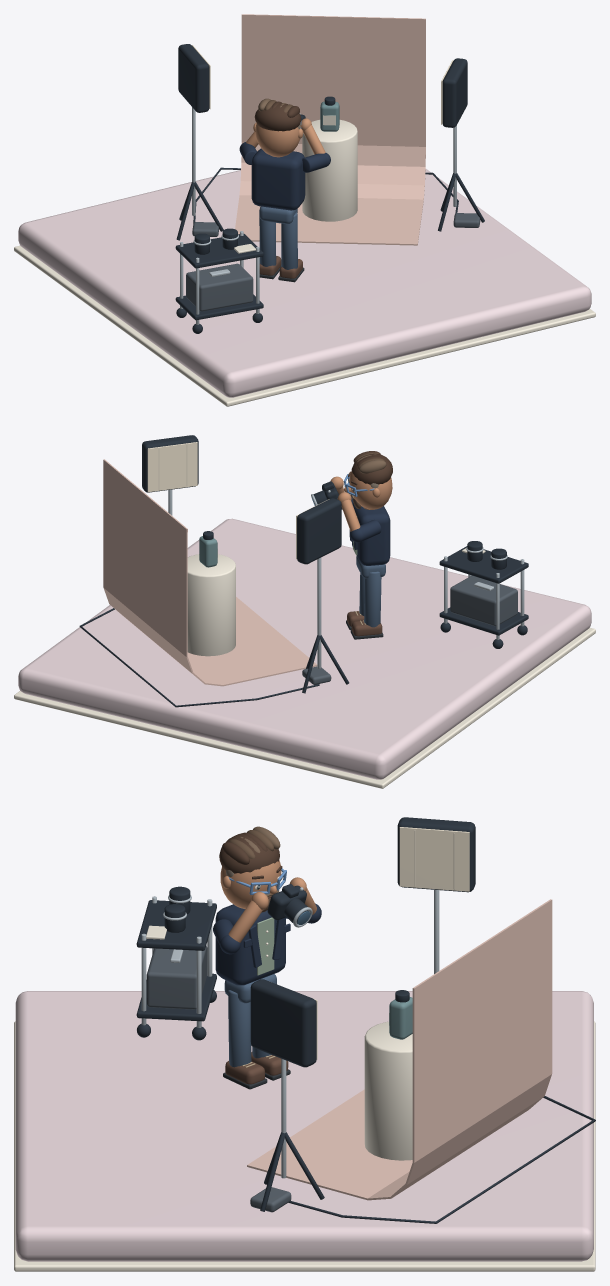
File: photography.glb
3 renders of one model, top to bottom at view 1: azimuth 30°, elevation 25°; view 2: azimuth 150°, elevation 25°; view 3: azimuth 270°, elevation 25°, orthographic. The views are drawn at different scales.
Parts seen in each view (by area): view 1: Square floating plinth.001, Curved photo backdrop, Ivory lower edge.001, Product pedestal, Jacket body.001, Camera case, Softbox housing, Softbox housing.001, Cart shelf.001, Face.001, Hair cap.001, Trouser leg (+3 smaller); view 2: Square floating plinth.001, Curved photo backdrop, Ivory lower edge.001, Product pedestal, Camera case, Softbox housing, Diffuser.001, Jacket body.001, Cart shelf.001, Trouser leg.001, Face.001, Softbox housing.001 (+5 smaller); view 3: Square floating plinth.001, Curved photo backdrop, Ivory lower edge.001, Product pedestal, Softbox housing.001, Diffuser, Camera case, Cart shelf.001, Jacket body.001, Trouser leg, Softbox housing, Face.001 (+10 smaller).
Boxes of the visible parts, x1=… form: Square floating plinth.001: x1=18, y1=169, x2=591, y2=397; Curved photo backdrop: x1=235, y1=14, x2=425, y2=245; Ivory lower edge.001: x1=14, y1=245, x2=595, y2=406; Product pedestal: x1=302, y1=119, x2=357, y2=221; Jacket body.001: x1=251, y1=148, x2=305, y2=210; Camera case: x1=186, y1=263, x2=253, y2=311; Softbox housing: x1=178, y1=44, x2=209, y2=112; Softbox housing.001: x1=442, y1=58, x2=467, y2=127; Cart shelf.001: x1=175, y1=234, x2=263, y2=268; Face.001: x1=255, y1=123, x2=301, y2=157; Hair cap.001: x1=254, y1=102, x2=301, y2=131; Trouser leg: x1=281, y1=212, x2=297, y2=269; Square floating plinth.001: x1=18, y1=518, x2=591, y2=779; Curved photo backdrop: x1=103, y1=459, x2=317, y2=686; Ivory lower edge.001: x1=14, y1=627, x2=595, y2=788; Product pedestal: x1=187, y1=554, x2=235, y2=656; Camera case: x1=450, y1=575, x2=517, y2=626; Softbox housing: x1=297, y1=498, x2=341, y2=564; Diffuser.001: x1=147, y1=442, x2=197, y2=492; Jacket body.001: x1=352, y1=503, x2=390, y2=565; Cart shelf.001: x1=439, y1=546, x2=528, y2=583; Trouser leg.001: x1=364, y1=571, x2=381, y2=627; Face.001: x1=349, y1=471, x2=392, y2=509; Softbox housing.001: x1=142, y1=435, x2=198, y2=492; Square floating plinth.001: x1=15, y1=991, x2=593, y2=1261; Curved photo backdrop: x1=247, y1=899, x2=552, y2=1200; Ivory lower edge.001: x1=14, y1=1021, x2=595, y2=1271; Product pedestal: x1=364, y1=1021, x2=412, y2=1160; Softbox housing.001: x1=250, y1=979, x2=316, y2=1067; Diffuser: x1=399, y1=827, x2=469, y2=891; Camera case: x1=146, y1=945, x2=207, y2=1009; Cart shelf.001: x1=136, y1=900, x2=216, y2=950; Jacket body.001: x1=215, y1=904, x2=285, y2=985; Trouser leg: x1=228, y1=990, x2=251, y2=1067; Softbox housing: x1=397, y1=817, x2=475, y2=892; Face.001: x1=220, y1=860, x2=281, y2=908.
Size of the model in its own units: 5.23 by 2.84 by 5.23.
